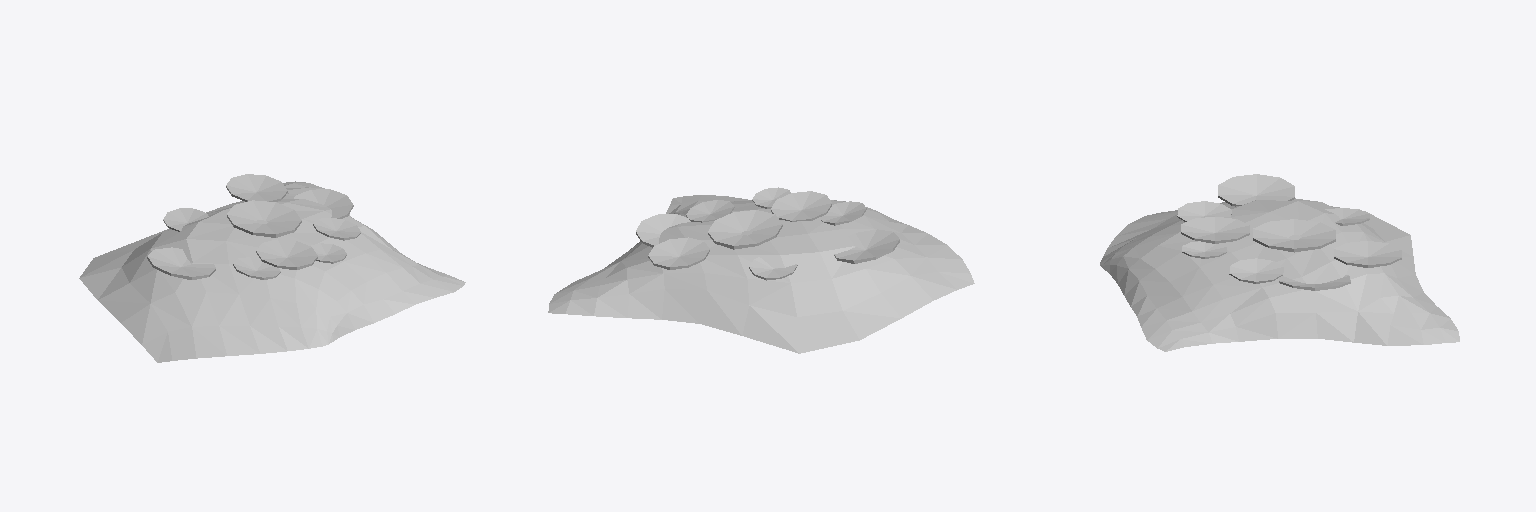
The model's file is terrain - Coral reef (2).obj.
3 views of the same model, side by side, from view 1: azimuth 30°, elevation 25°; view 2: azimuth 150°, elevation 25°; view 3: azimuth 270°, elevation 25° (orthographic).
Parts seen in each view (by area): view 1: terrain___Coral_reef__2_:polySurface13; view 2: terrain___Coral_reef__2_:polySurface13; view 3: terrain___Coral_reef__2_:polySurface13.
Boxes of the visible parts, box(x1,y1,x2,y2) form: terrain___Coral_reef__2_:polySurface13: box(79, 174, 465, 362); terrain___Coral_reef__2_:polySurface13: box(548, 187, 974, 353); terrain___Coral_reef__2_:polySurface13: box(1100, 174, 1459, 351).
Bounding box in the file's own units: 15.86 × 2.99 × 16.21.